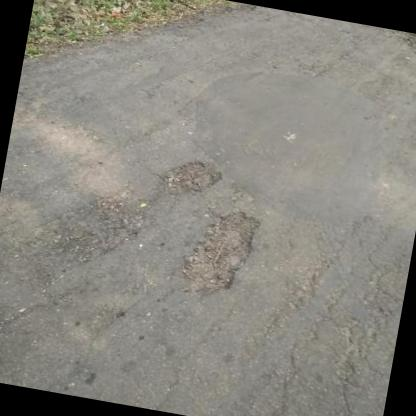pothole: (27, 174, 152, 274), (175, 199, 261, 305), (153, 153, 226, 207), (380, 27, 416, 58)
